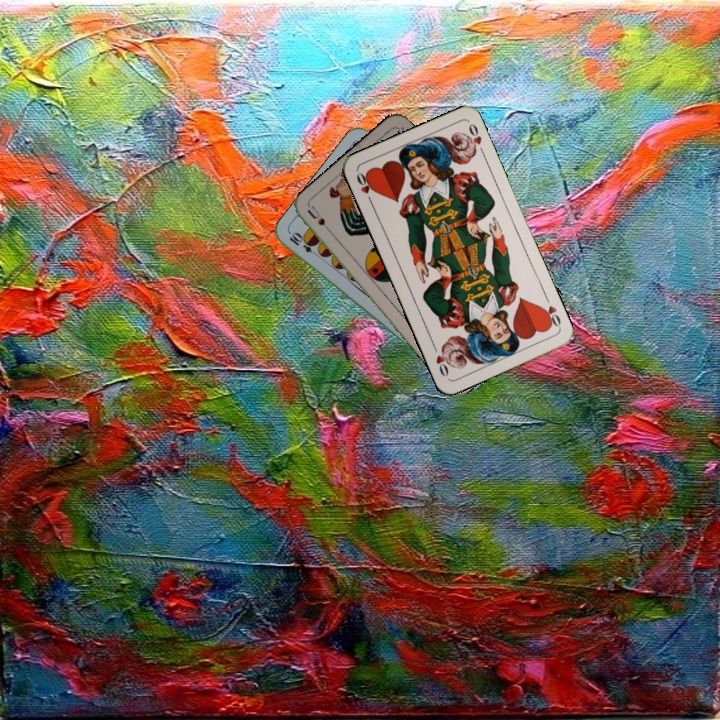E10: (285, 229, 322, 259)
HO: (537, 292, 563, 330), (352, 168, 376, 206)
SU: (303, 202, 336, 238)
